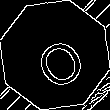O_NW: (24, 22, 86, 88)
